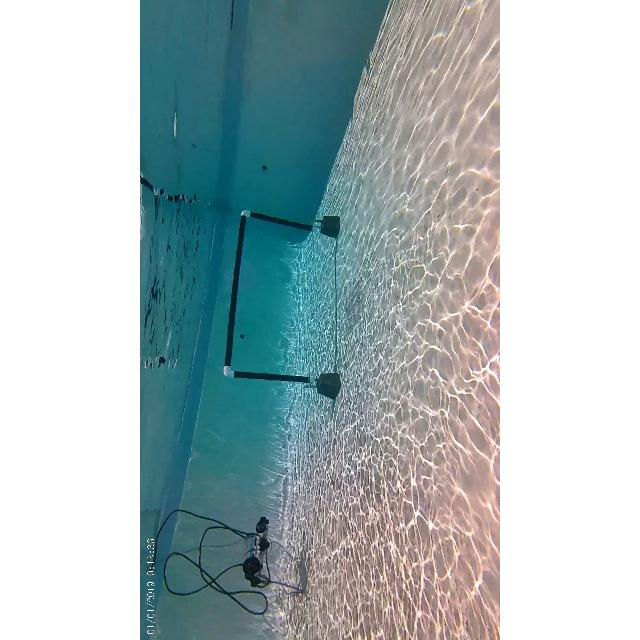prequal gate: (223, 210, 319, 384)
prequal gate leg l: (218, 364, 320, 396)
prequal gate leg r: (238, 204, 320, 238)
